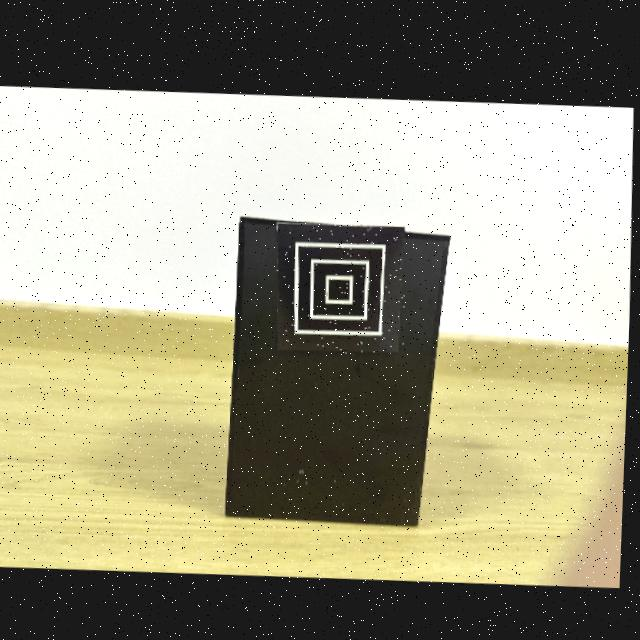BULLSEYE: (278, 218, 407, 350)
